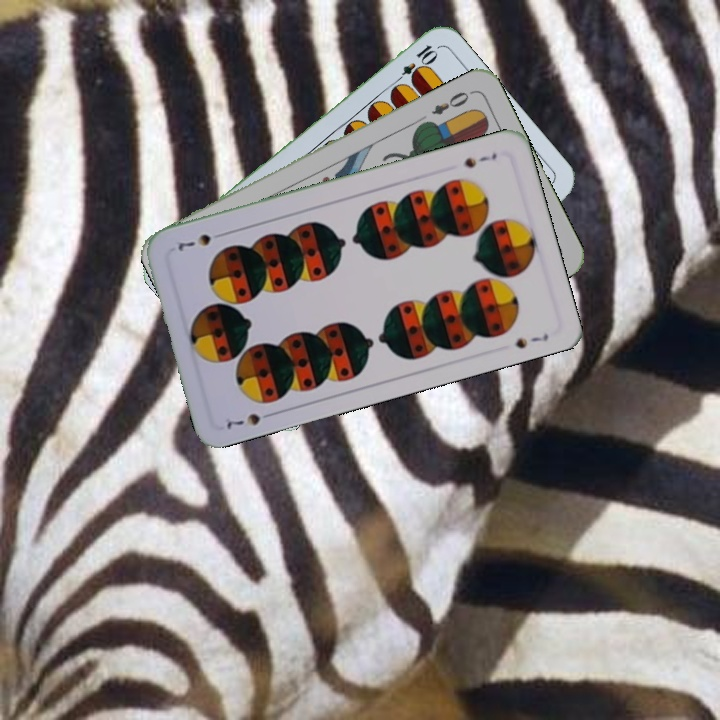E10: (389, 40, 440, 88)
EO: (427, 86, 476, 118)
S7: (222, 407, 278, 432), (459, 148, 499, 171)
